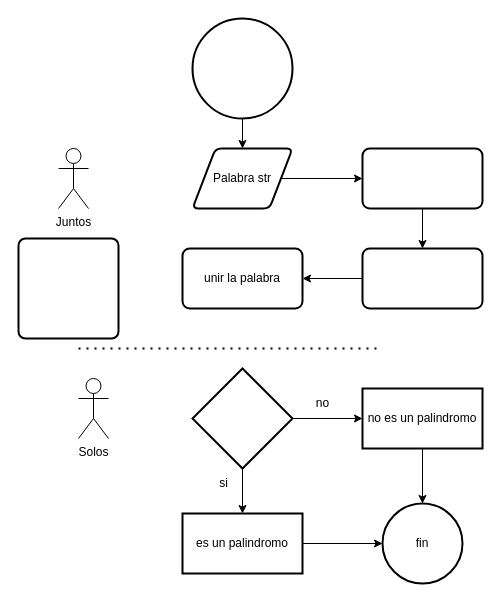
Image size: 500x601. Some labels were removed from this diagram. The shapes that lost their labels are listed below. From the top down, each one's box as (x1, y1, x2, y2) in pixels, then its label:
(361, 147, 483, 209): separar las letras
(17, 237, 119, 339): alReves: voy a invertir la palabra
(361, 247, 483, 309): dar la vuelta
(191, 367, 293, 469): palabra == alReves
